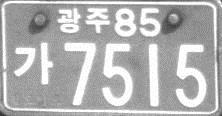1: (146, 42, 161, 107)
5: (100, 41, 135, 107), (173, 43, 208, 108), (137, 6, 162, 37)
7: (62, 40, 98, 106)
8: (112, 6, 136, 38)
가: (12, 42, 55, 86)
광주_O: (56, 6, 111, 34)
